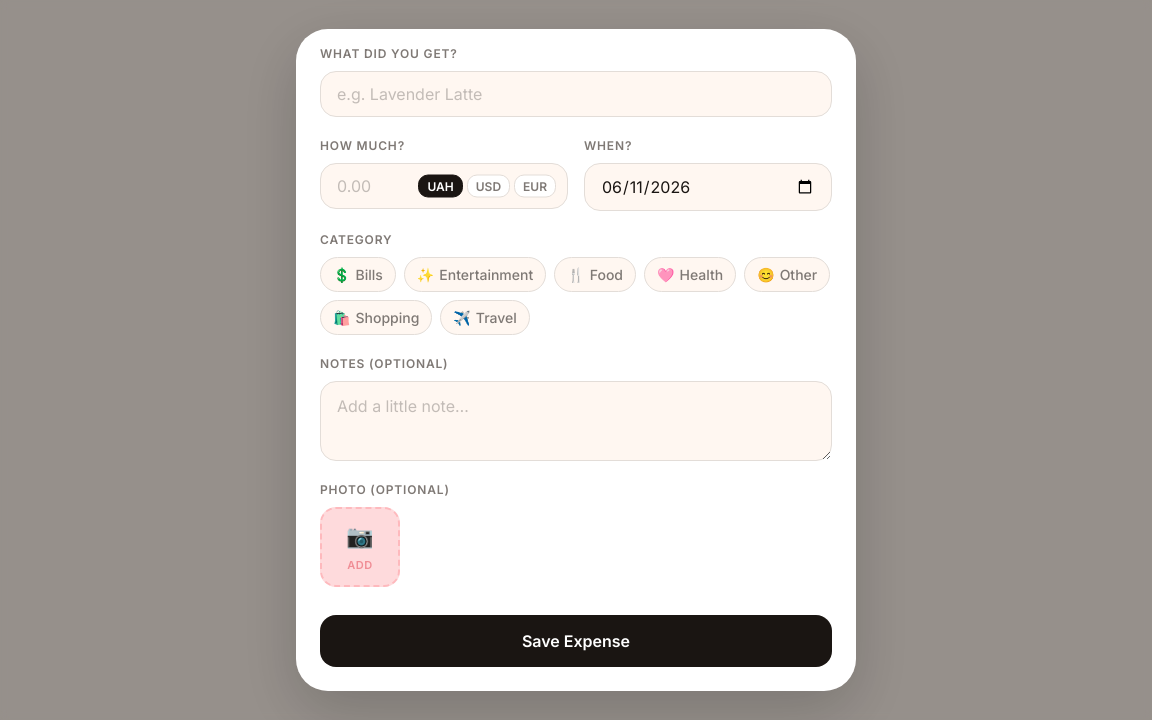
Test case: AddExpenseModal › shows validation error when name is empty
(page scrolled)
Click the button "Save Expense" at (576, 641), box [320,615,832,667]
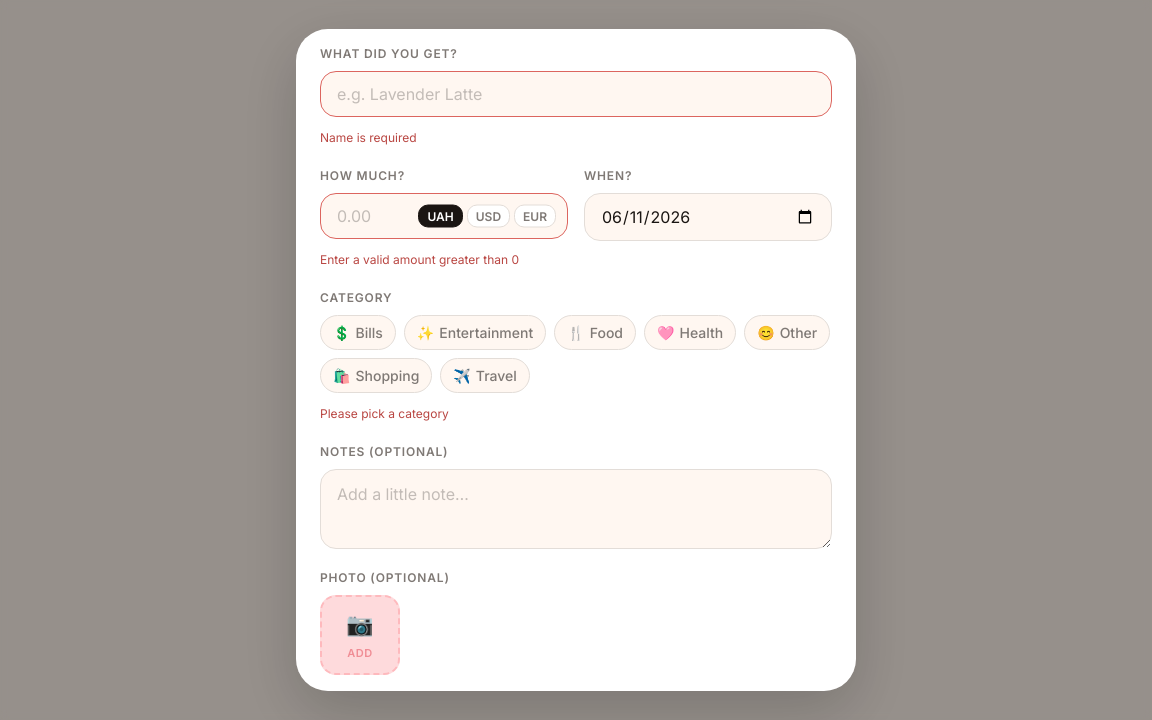
Check: the text "Name is required" is shown, box [320,130,417,145]
